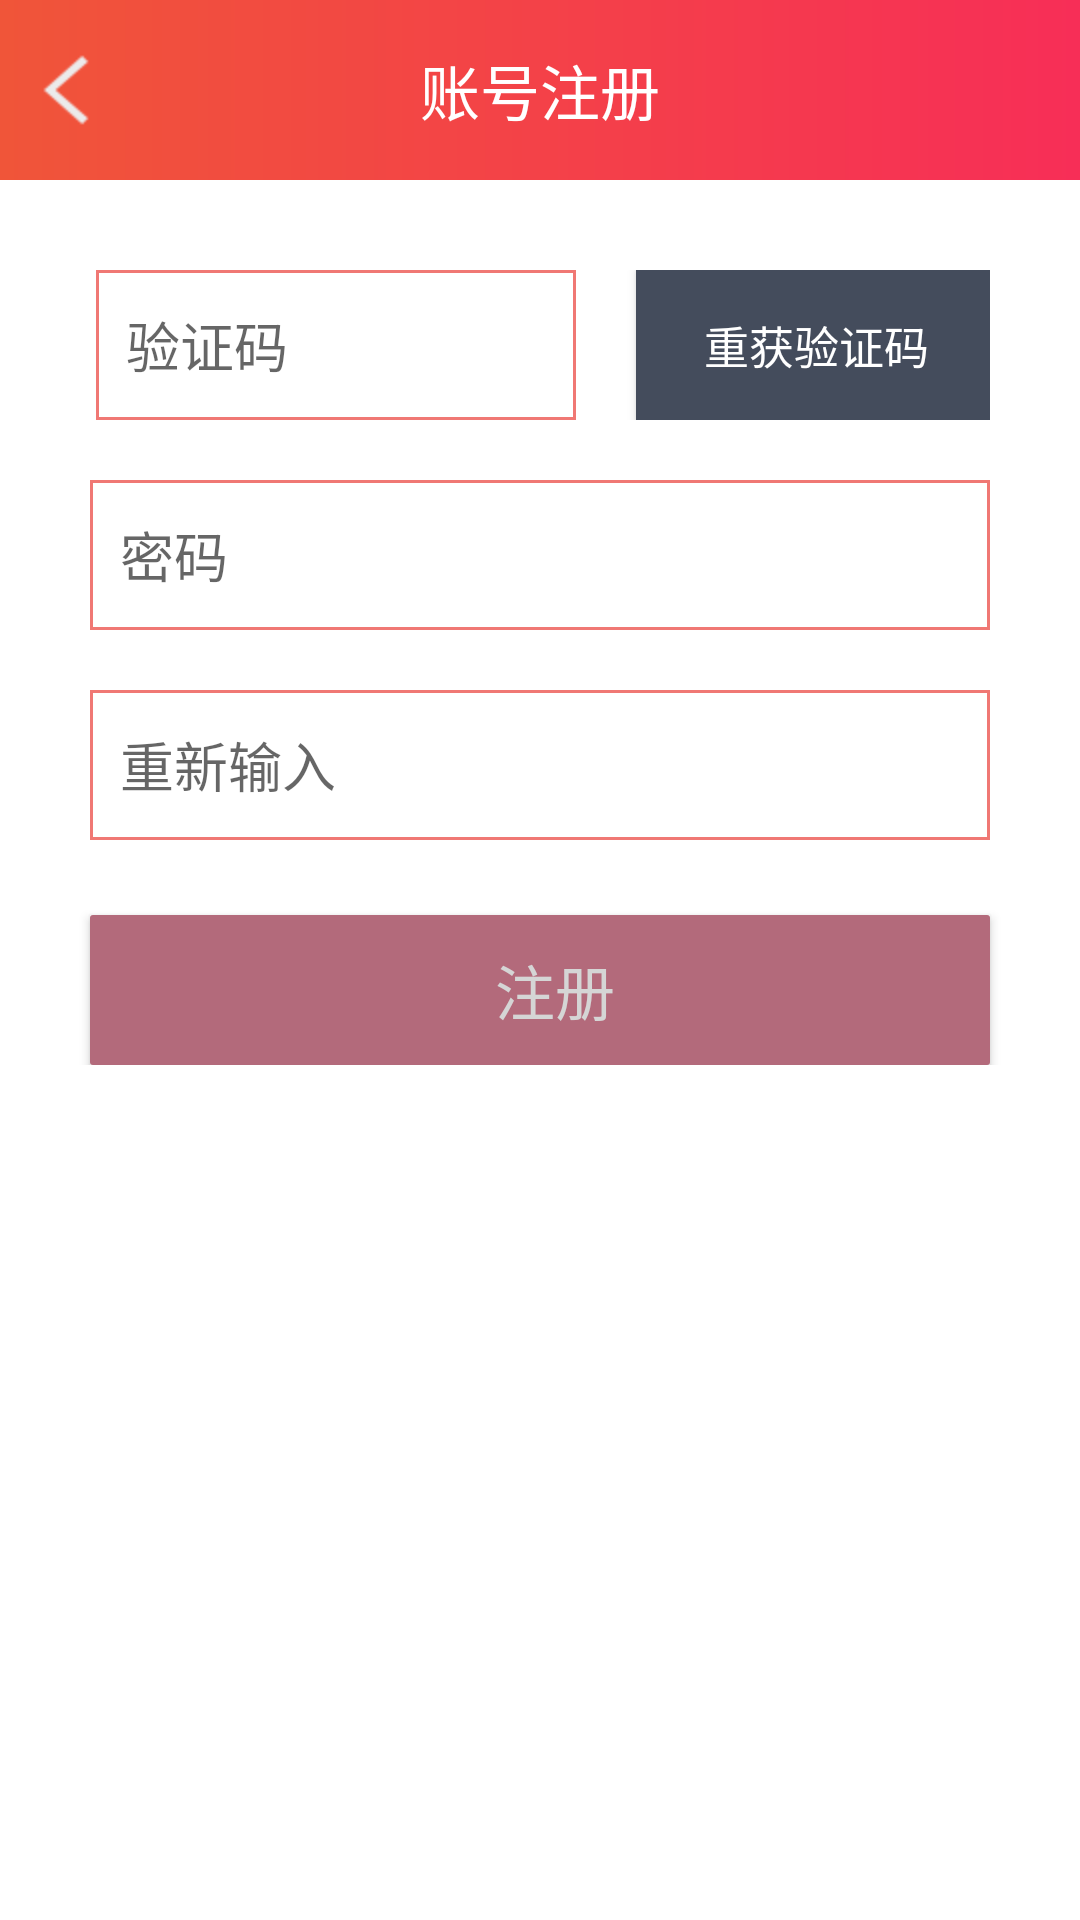

Icons on this 1080w x 1920h Android screen, each with its box as (x1, y1, x2, y2):
back: (44, 55, 89, 125)
